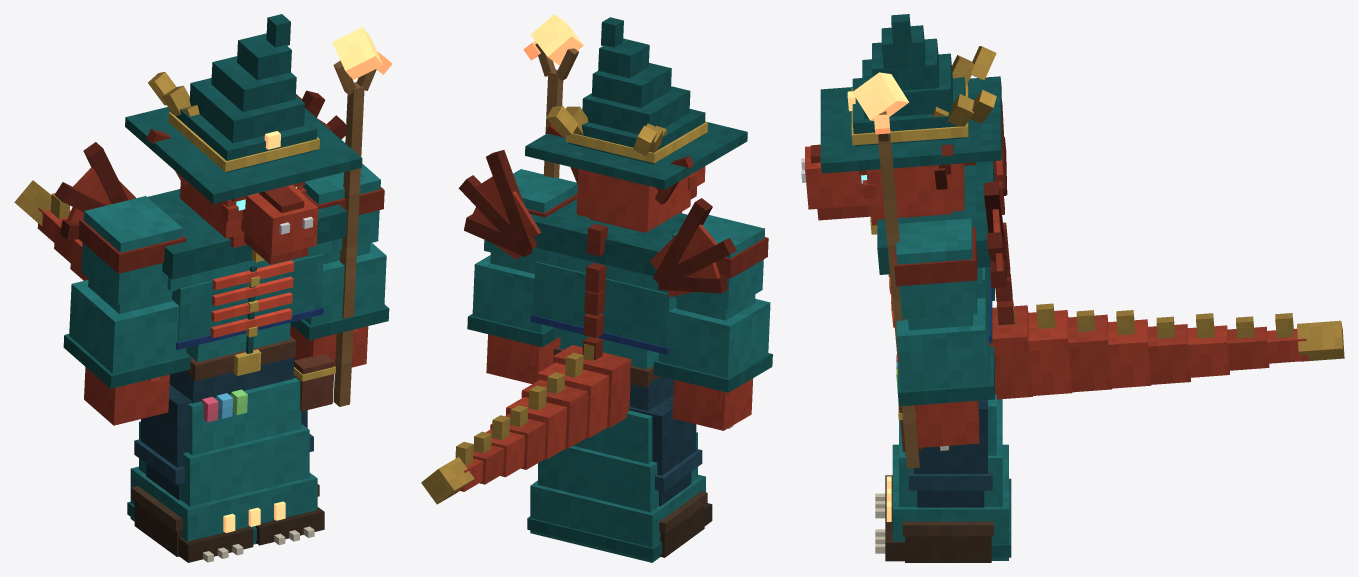
The model's file is dragonoid_mage.glb.
The picture shows the model from 3 angles, left to right: view 1: azimuth 30°, elevation 25°; view 2: azimuth 150°, elevation 25°; view 3: azimuth 270°, elevation 25°; orthographic projection. The views are drawn at different scales.
Visible parts, largest first — view 1: Torso, Head, ArmR, Root, ArmL, LegR, HandL, LegL; view 2: Torso, Head, ArmR, Root, ArmL, LegR, HandL; view 3: Torso, Head, ArmL, LegL, Root, HandL.
Boxes of the visible parts, x1=… form: Torso: x1=14, y1=90, x2=347, y2=422; Head: x1=125, y1=14, x2=362, y2=264; ArmR: x1=63, y1=196, x2=190, y2=425; Root: x1=127, y1=377, x2=317, y2=562; ArmL: x1=290, y1=164, x2=389, y2=367; LegR: x1=131, y1=384, x2=253, y2=562; HandL: x1=332, y1=27, x2=392, y2=406; LegL: x1=256, y1=374, x2=324, y2=545; Torso: x1=421, y1=150, x2=736, y2=504; Head: x1=525, y1=17, x2=747, y2=232; ArmR: x1=653, y1=215, x2=772, y2=430; Root: x1=527, y1=410, x2=705, y2=562; ArmL: x1=467, y1=169, x2=577, y2=384; LegR: x1=629, y1=395, x2=712, y2=557; HandL: x1=523, y1=14, x2=583, y2=177; Torso: x1=870, y1=99, x2=1344, y2=451; Head: x1=801, y1=14, x2=1001, y2=225; ArmL: x1=894, y1=218, x2=994, y2=450; LegL: x1=885, y1=400, x2=993, y2=562; Root: x1=875, y1=394, x2=1011, y2=560; HandL: x1=852, y1=72, x2=919, y2=468.
Size of the model in its own units: 1.38 by 2.35 by 2.2.
Materials: 45 (45 with a texture image).
